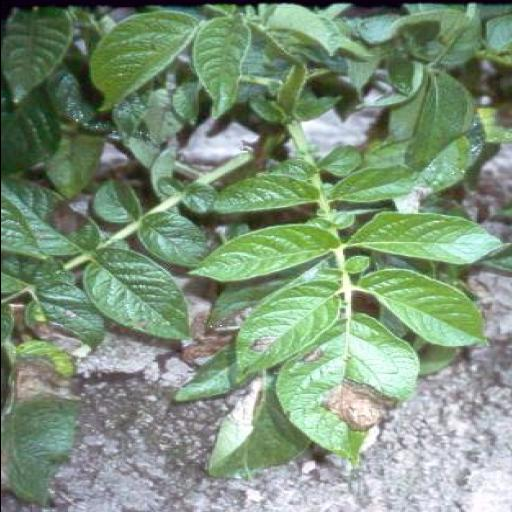Late Blight: (265, 314, 417, 466), (0, 336, 93, 508)
